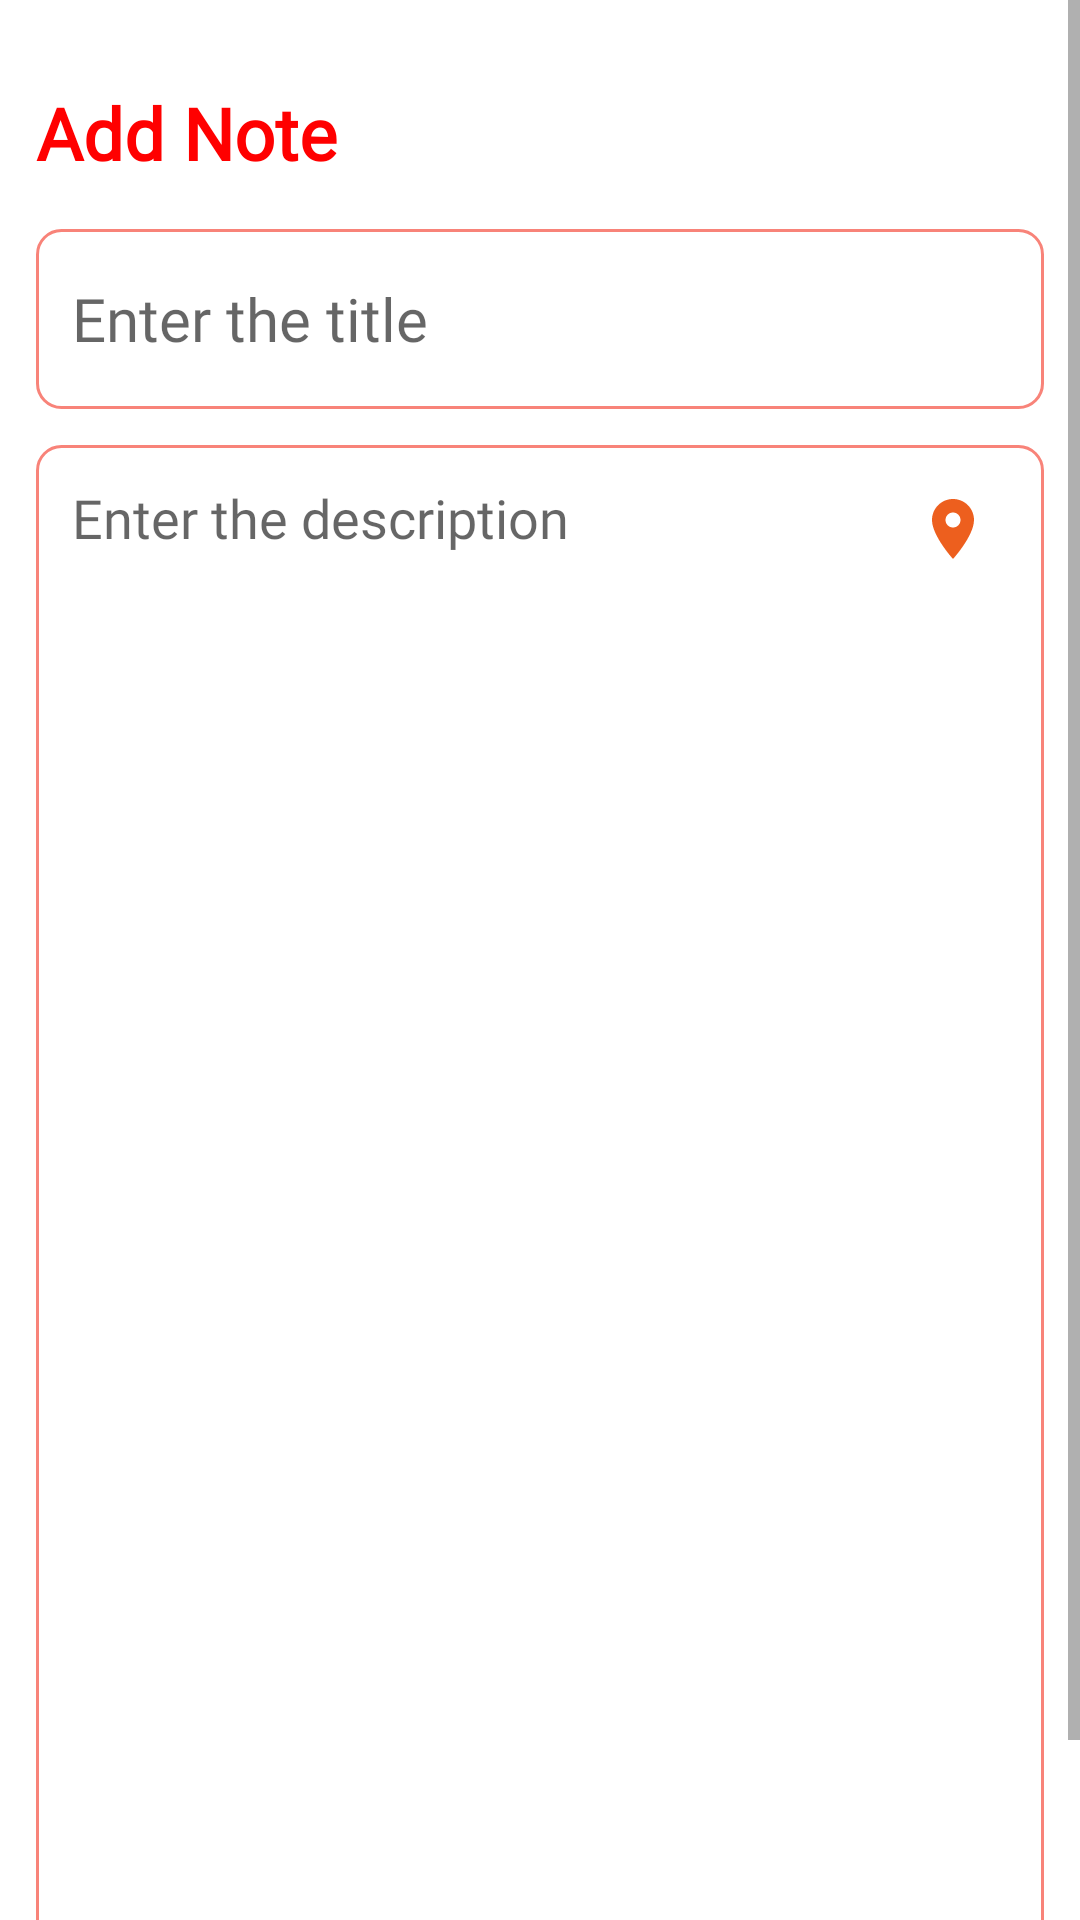

Icons on this 1080*1920 Android screen, each with the point to tap as (x=x, y=y):
Enter Location: (x=953, y=529)
